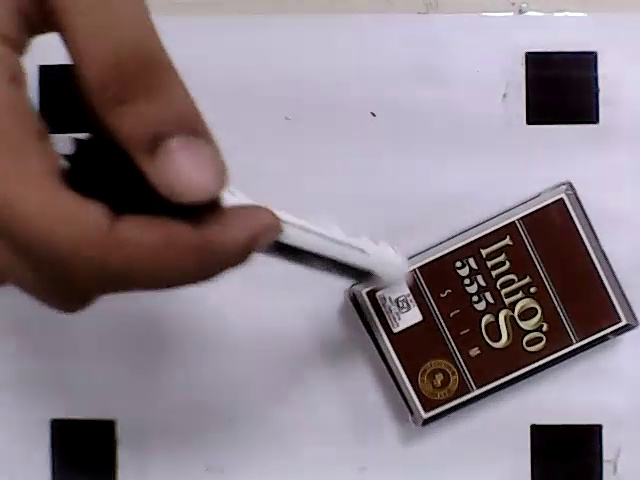BEX: (364, 194, 625, 415)
